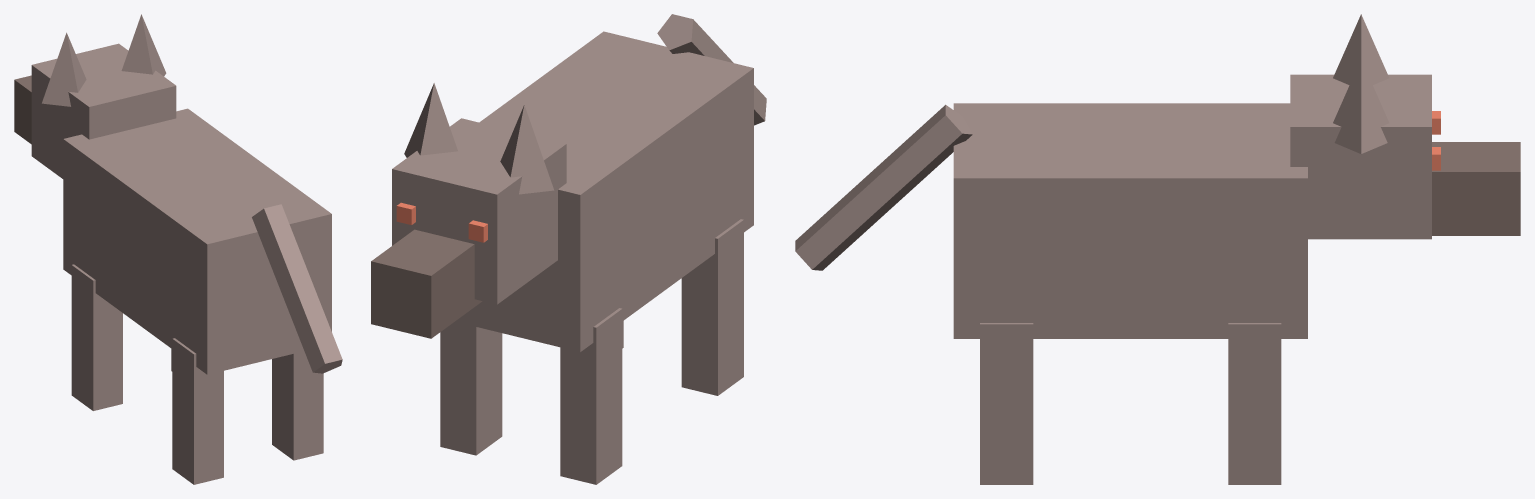
The model's file is monster_beast.glb.
The picture shows the model from 3 angles, left to right: view 1: azimuth 30°, elevation 25°; view 2: azimuth 150°, elevation 25°; view 3: azimuth 270°, elevation 25°; orthographic projection. The views are drawn at different scales.
Visible parts, largest first — view 1: Cube, Cube.001, Cube.005, Cube.007, Cylinder, Cube.006, Cone, Cone.001, Cube.002; view 2: Cube, Cube.001, Cube.002, Cube.007, Cube.005, Cube.008, Cone, Cylinder, Cone.001; view 3: Cube, Cube.001, Cube.006, Cube.008, Cylinder, Cube.002, Cone.001, Cone.
Part boxes in pixels (<box>): Cube: <box>63,108,331,374</box>; Cube.001: <box>31,43,176,178</box>; Cube.005: <box>172,338,223,484</box>; Cube.007: <box>71,264,122,410</box>; Cylinder: <box>252,204,342,373</box>; Cube.006: <box>272,351,323,460</box>; Cone: <box>42,32,86,106</box>; Cone.001: <box>121,14,166,76</box>; Cube.002: <box>14,75,31,144</box>; Cube: <box>455,31,753,352</box>; Cube.001: <box>392,118,566,304</box>; Cube.002: <box>371,229,482,338</box>; Cube.007: <box>560,308,622,484</box>; Cube.005: <box>681,219,743,395</box>; Cube.008: <box>440,321,502,455</box>; Cone: <box>500,105,554,194</box>; Cylinder: <box>657,14,766,125</box>; Cone.001: <box>404,83,457,157</box>; Cube: <box>953,103,1307,338</box>; Cube.001: <box>1290,74,1431,239</box>; Cube.006: <box>980,323,1033,484</box>; Cube.008: <box>1228,323,1281,484</box>; Cylinder: <box>795,104,972,270</box>; Cube.002: <box>1432,142,1520,235</box>; Cone.001: <box>1333,59,1389,153</box>; Cone: <box>1333,14,1389,84</box>.
Bounding box in the file's own units: 0.52 × 1.27 × 2.05.
